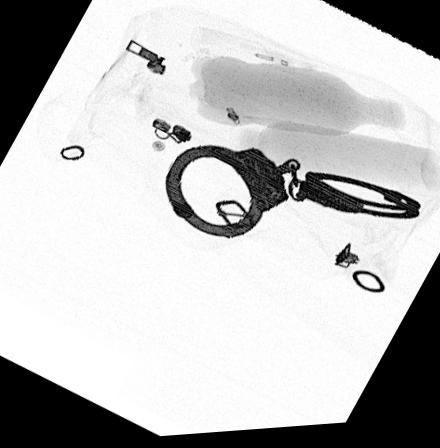HandCuffs: (164, 147, 423, 243)
